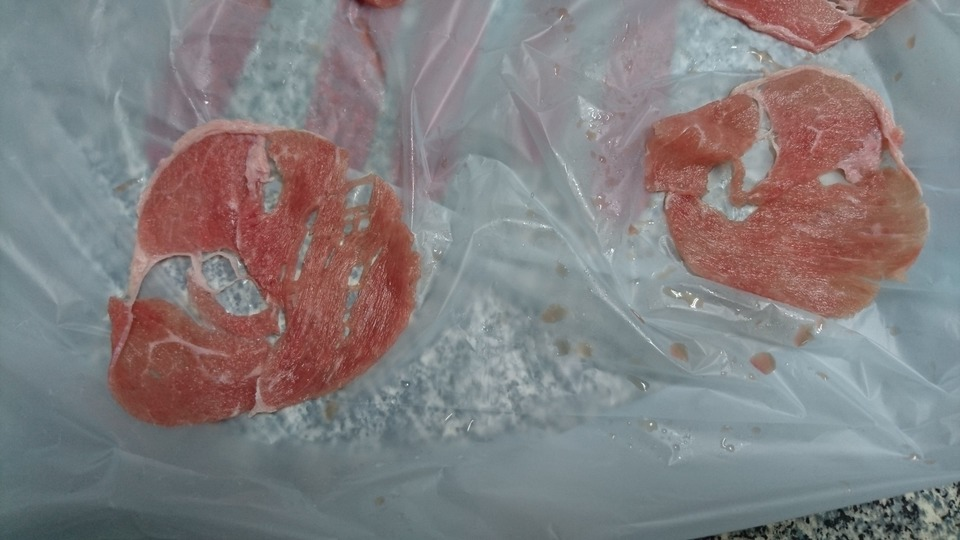restructured meat: (86, 95, 434, 431), (636, 80, 942, 325), (702, 5, 914, 57)
